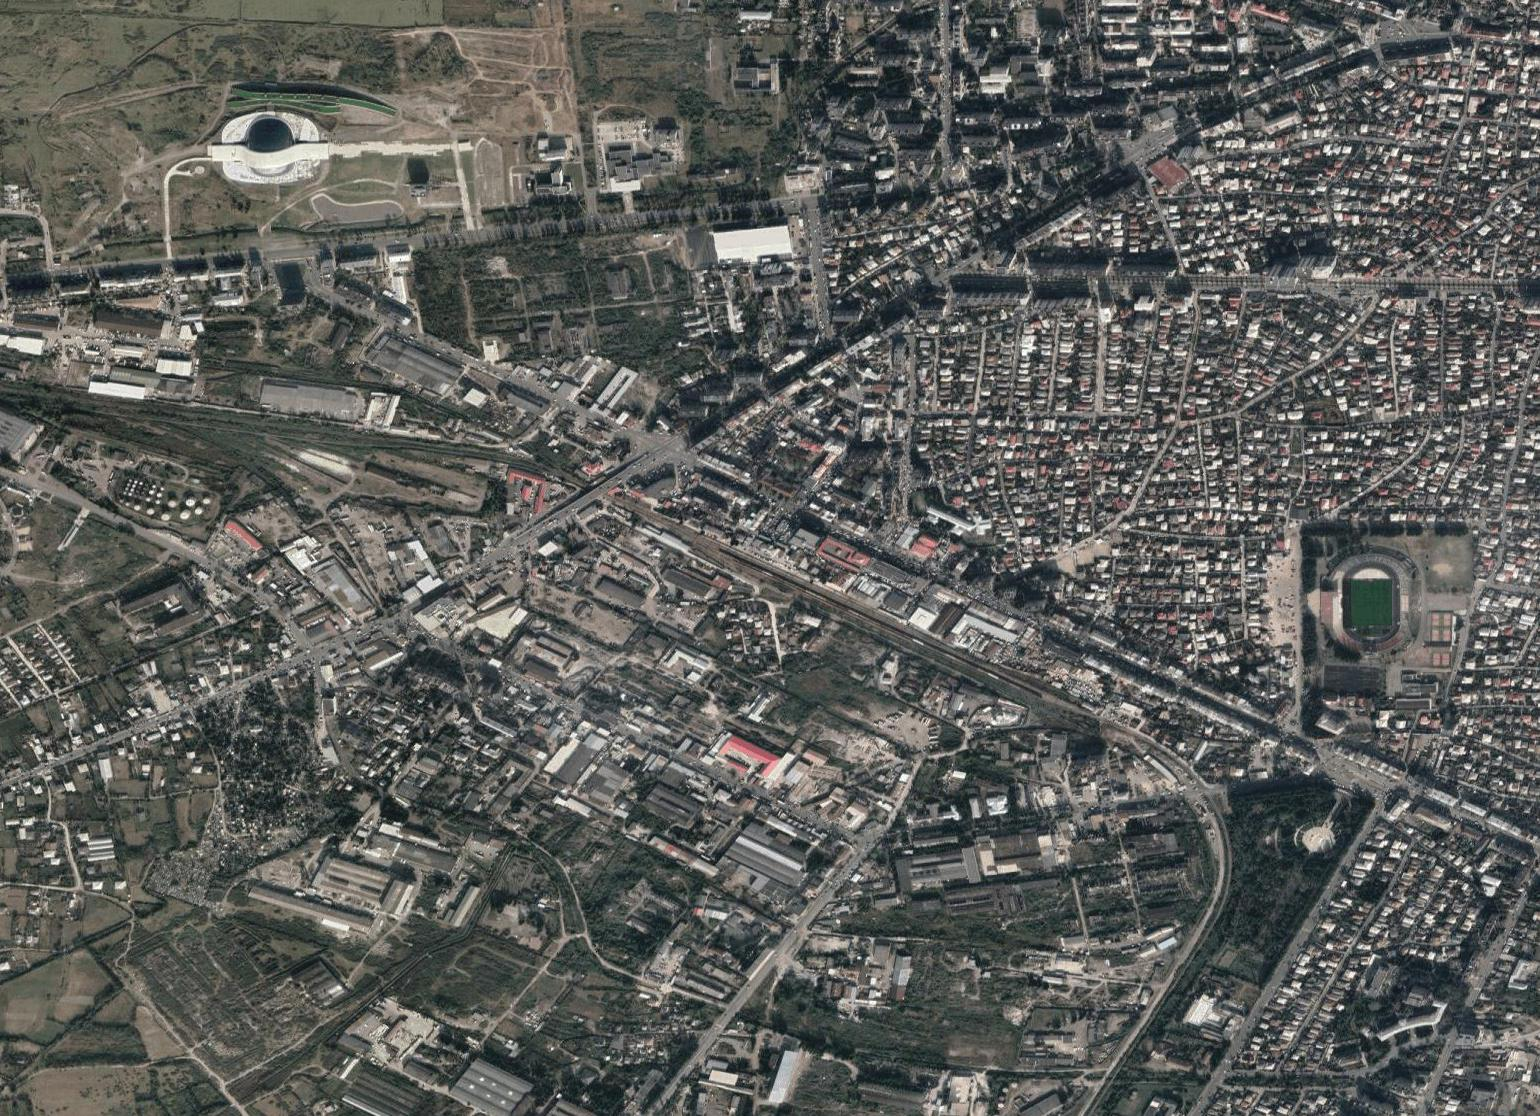industrial: (285, 531, 531, 687), (1, 292, 203, 417)
train_station: (742, 553, 903, 646)
